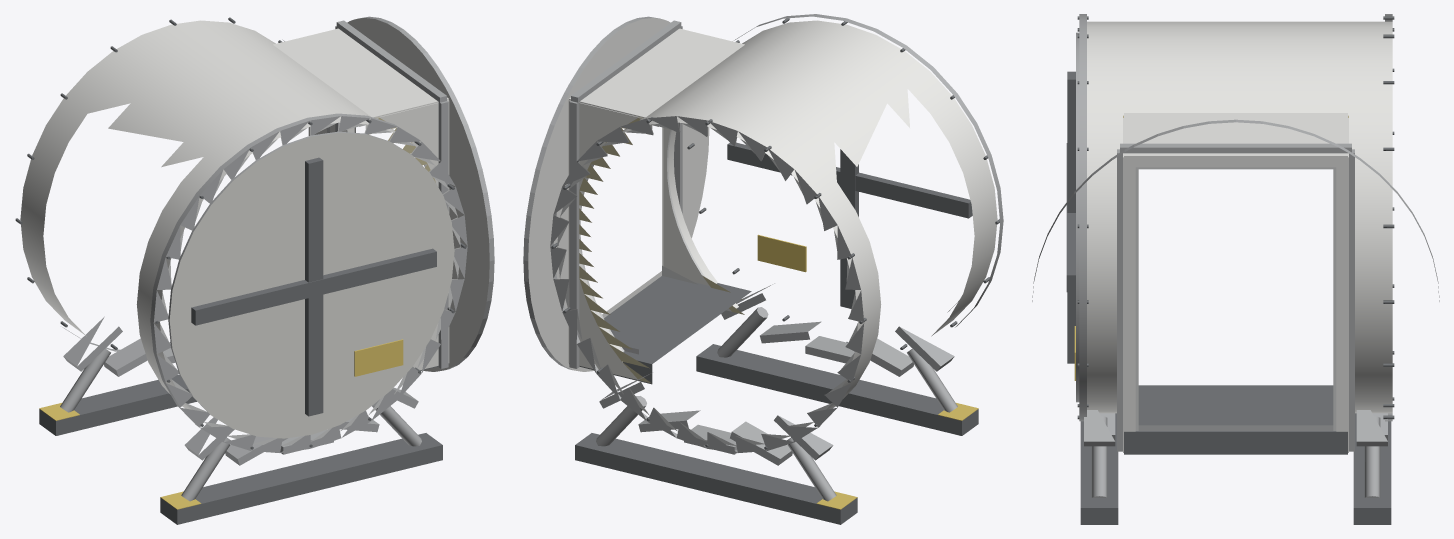
Rendered from habWindowJRf_steel.glb.
The picture shows the model from 3 angles, left to right: view 1: azimuth 30°, elevation 25°; view 2: azimuth 150°, elevation 25°; view 3: azimuth 270°, elevation 25°; orthographic projection. The views are drawn at different scales.
Parts seen in each view (by area): view 1: habWindowJRf_steel; view 2: habWindowJRf_steel; view 3: habWindowJRf_steel.
Part boxes in pixels (x1,y1,x2,y2): habWindowJRf_steel: [15, 16, 494, 524]; habWindowJRf_steel: [523, 14, 1003, 524]; habWindowJRf_steel: [1032, 14, 1439, 524].
Size of the model in its own units: 2.65 by 2.95 by 2.6.
